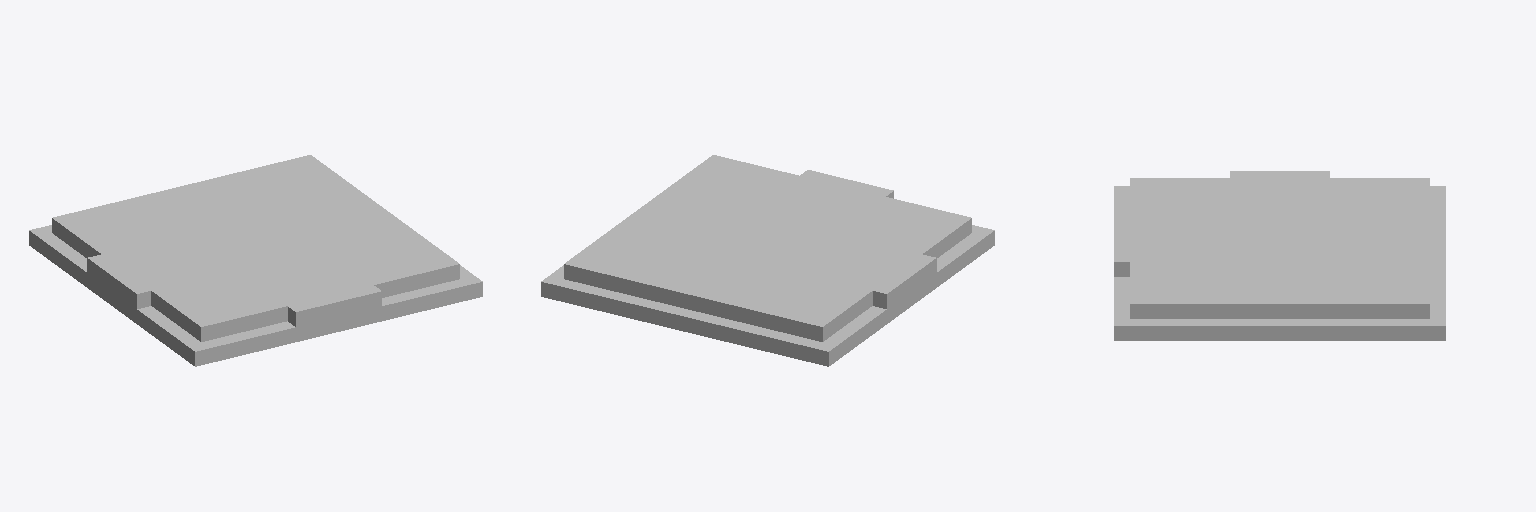
Rendered from corner.obj.
3 views of the same model, side by side, from view 1: azimuth 30°, elevation 25°; view 2: azimuth 150°, elevation 25°; view 3: azimuth 270°, elevation 25° (orthographic).
Size of the model in its own units: 20 by 2 by 20.